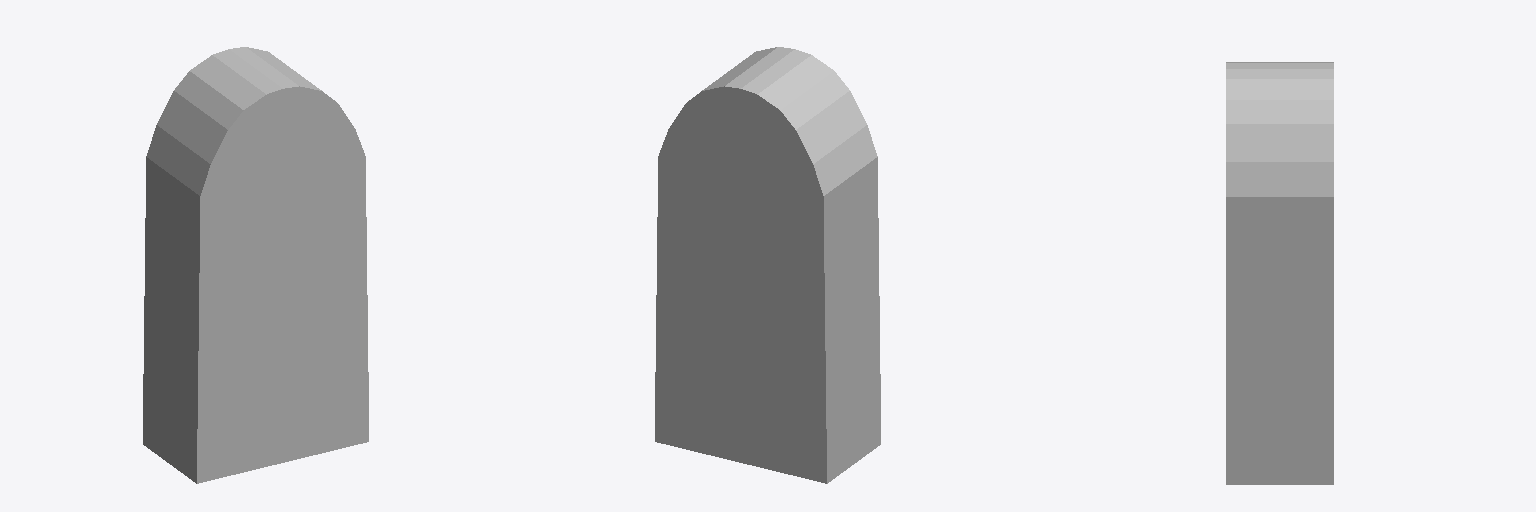
File: pomnik1.obj
The picture shows the model from 3 angles: view 1: azimuth 30°, elevation 25°; view 2: azimuth 150°, elevation 25°; view 3: azimuth 270°, elevation 25°; orthographic projection.
Visible parts, largest first — view 1: Cube; view 2: Cube; view 3: Cube.
Boxes of the visible parts, x1=… form: Cube: x1=143, y1=47, x2=368, y2=483; Cube: x1=655, y1=47, x2=880, y2=483; Cube: x1=1226, y1=62, x2=1333, y2=484.
Size of the model in its own units: 1.58 by 3.27 by 0.858.